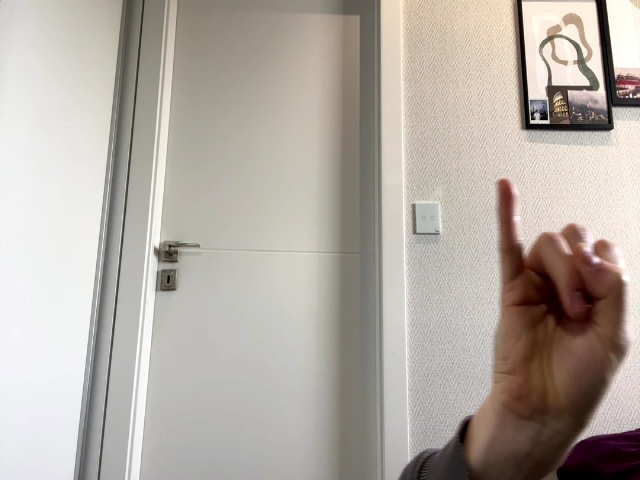I: (493, 178, 633, 411)
